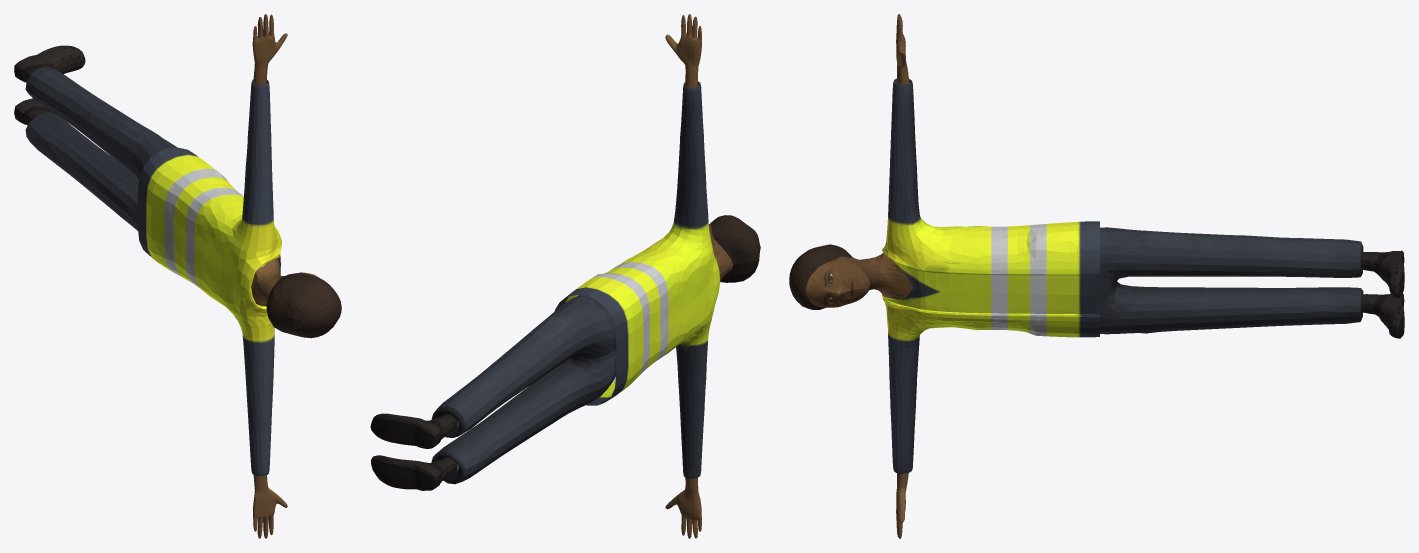
The model's file is workerHiVisWalk.obj.
The picture shows the model from 3 angles, left to right: view 1: azimuth 30°, elevation 25°; view 2: azimuth 150°, elevation 25°; view 3: azimuth 270°, elevation 25°; orthographic projection.
Bounding box in the file's own units: 0.3017 × 1.49 × 1.59.
1 material, 1 textured.
